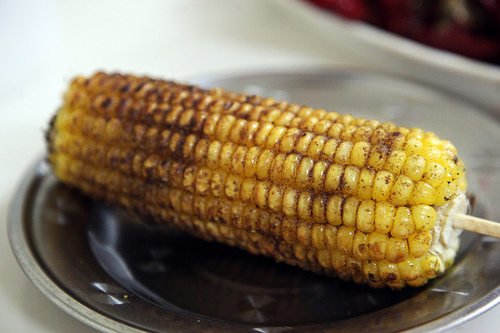corn: (42, 68, 499, 292)
